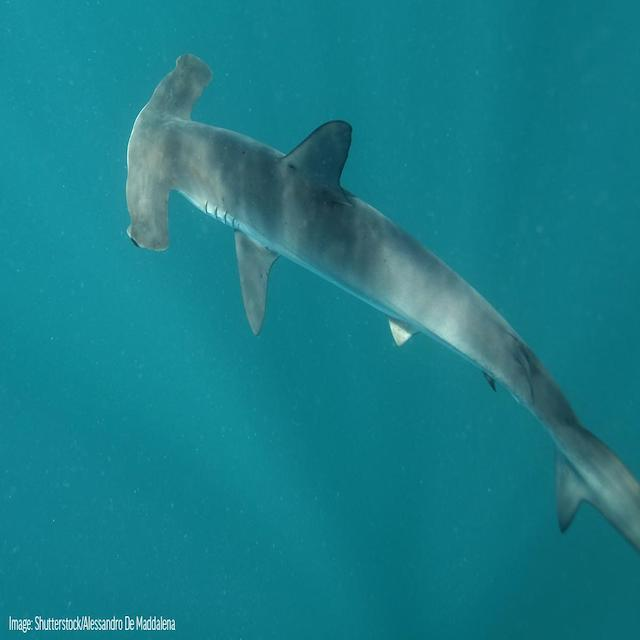hammerhead: (122, 25, 406, 331)
